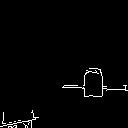cube: (77, 61, 107, 105)
